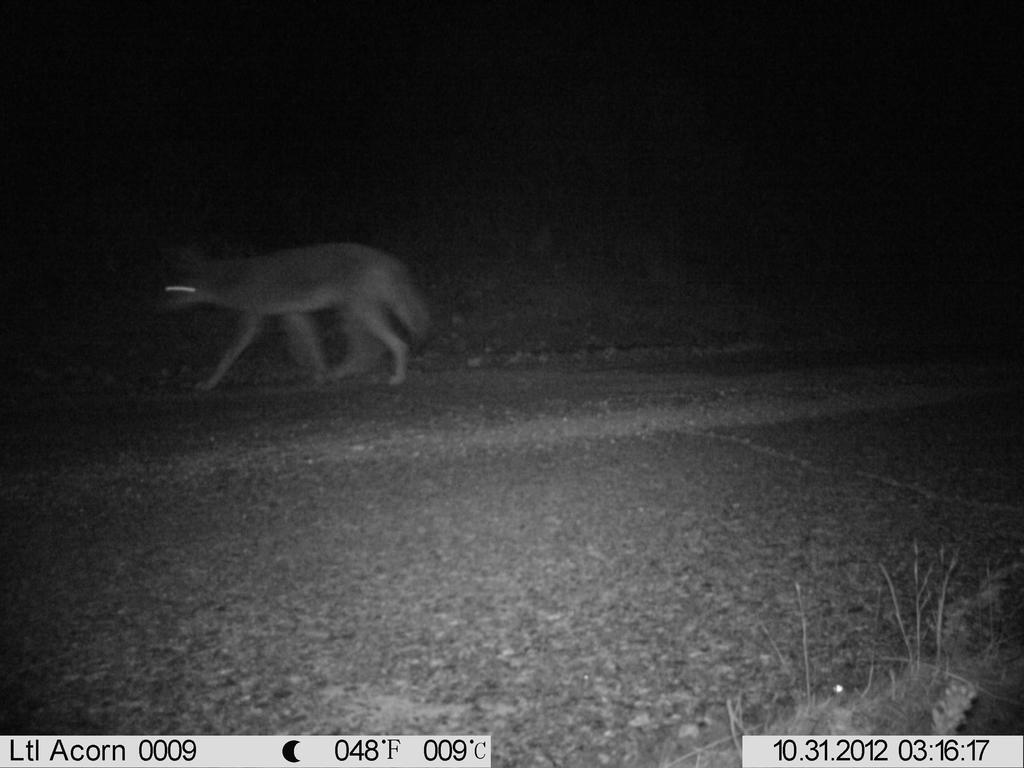coyote: (130, 225, 452, 410)
